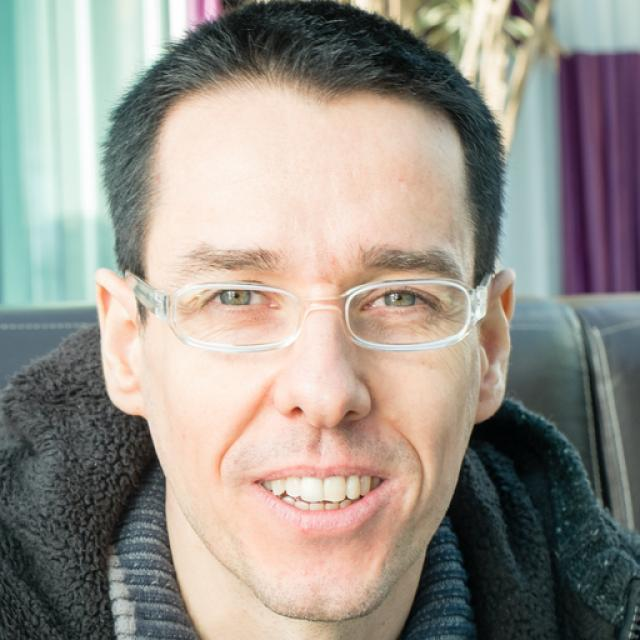disgust: (143, 75, 481, 620)
